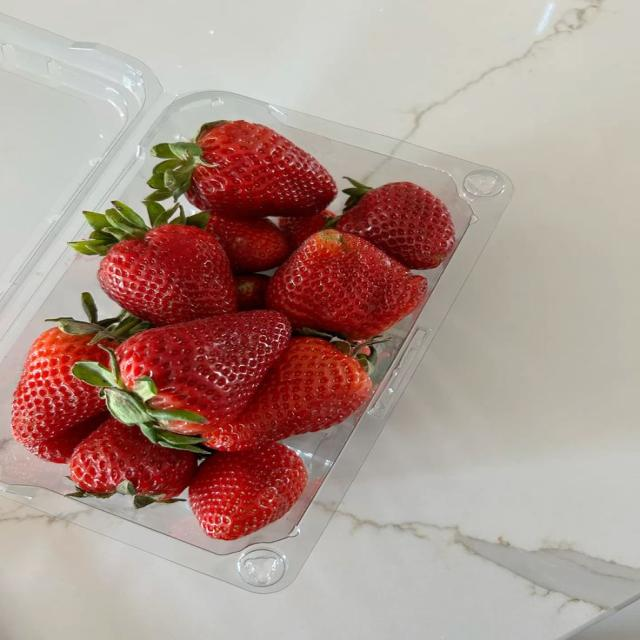strawberry: (74, 310, 290, 450), (12, 293, 148, 461), (70, 202, 236, 326), (203, 336, 371, 450), (148, 121, 336, 217), (267, 229, 426, 339), (189, 443, 306, 540), (70, 418, 197, 506), (337, 179, 454, 269), (207, 214, 290, 273), (13, 412, 108, 463), (279, 210, 336, 250), (234, 275, 270, 311)
